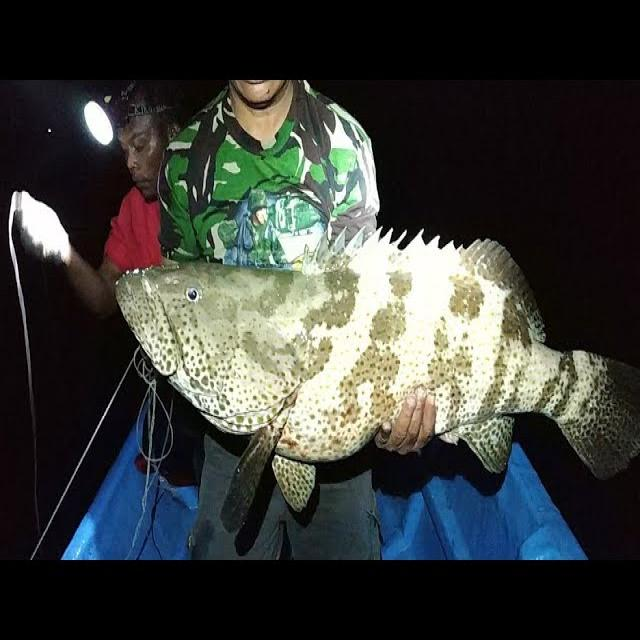grouper: (109, 214, 633, 520)
